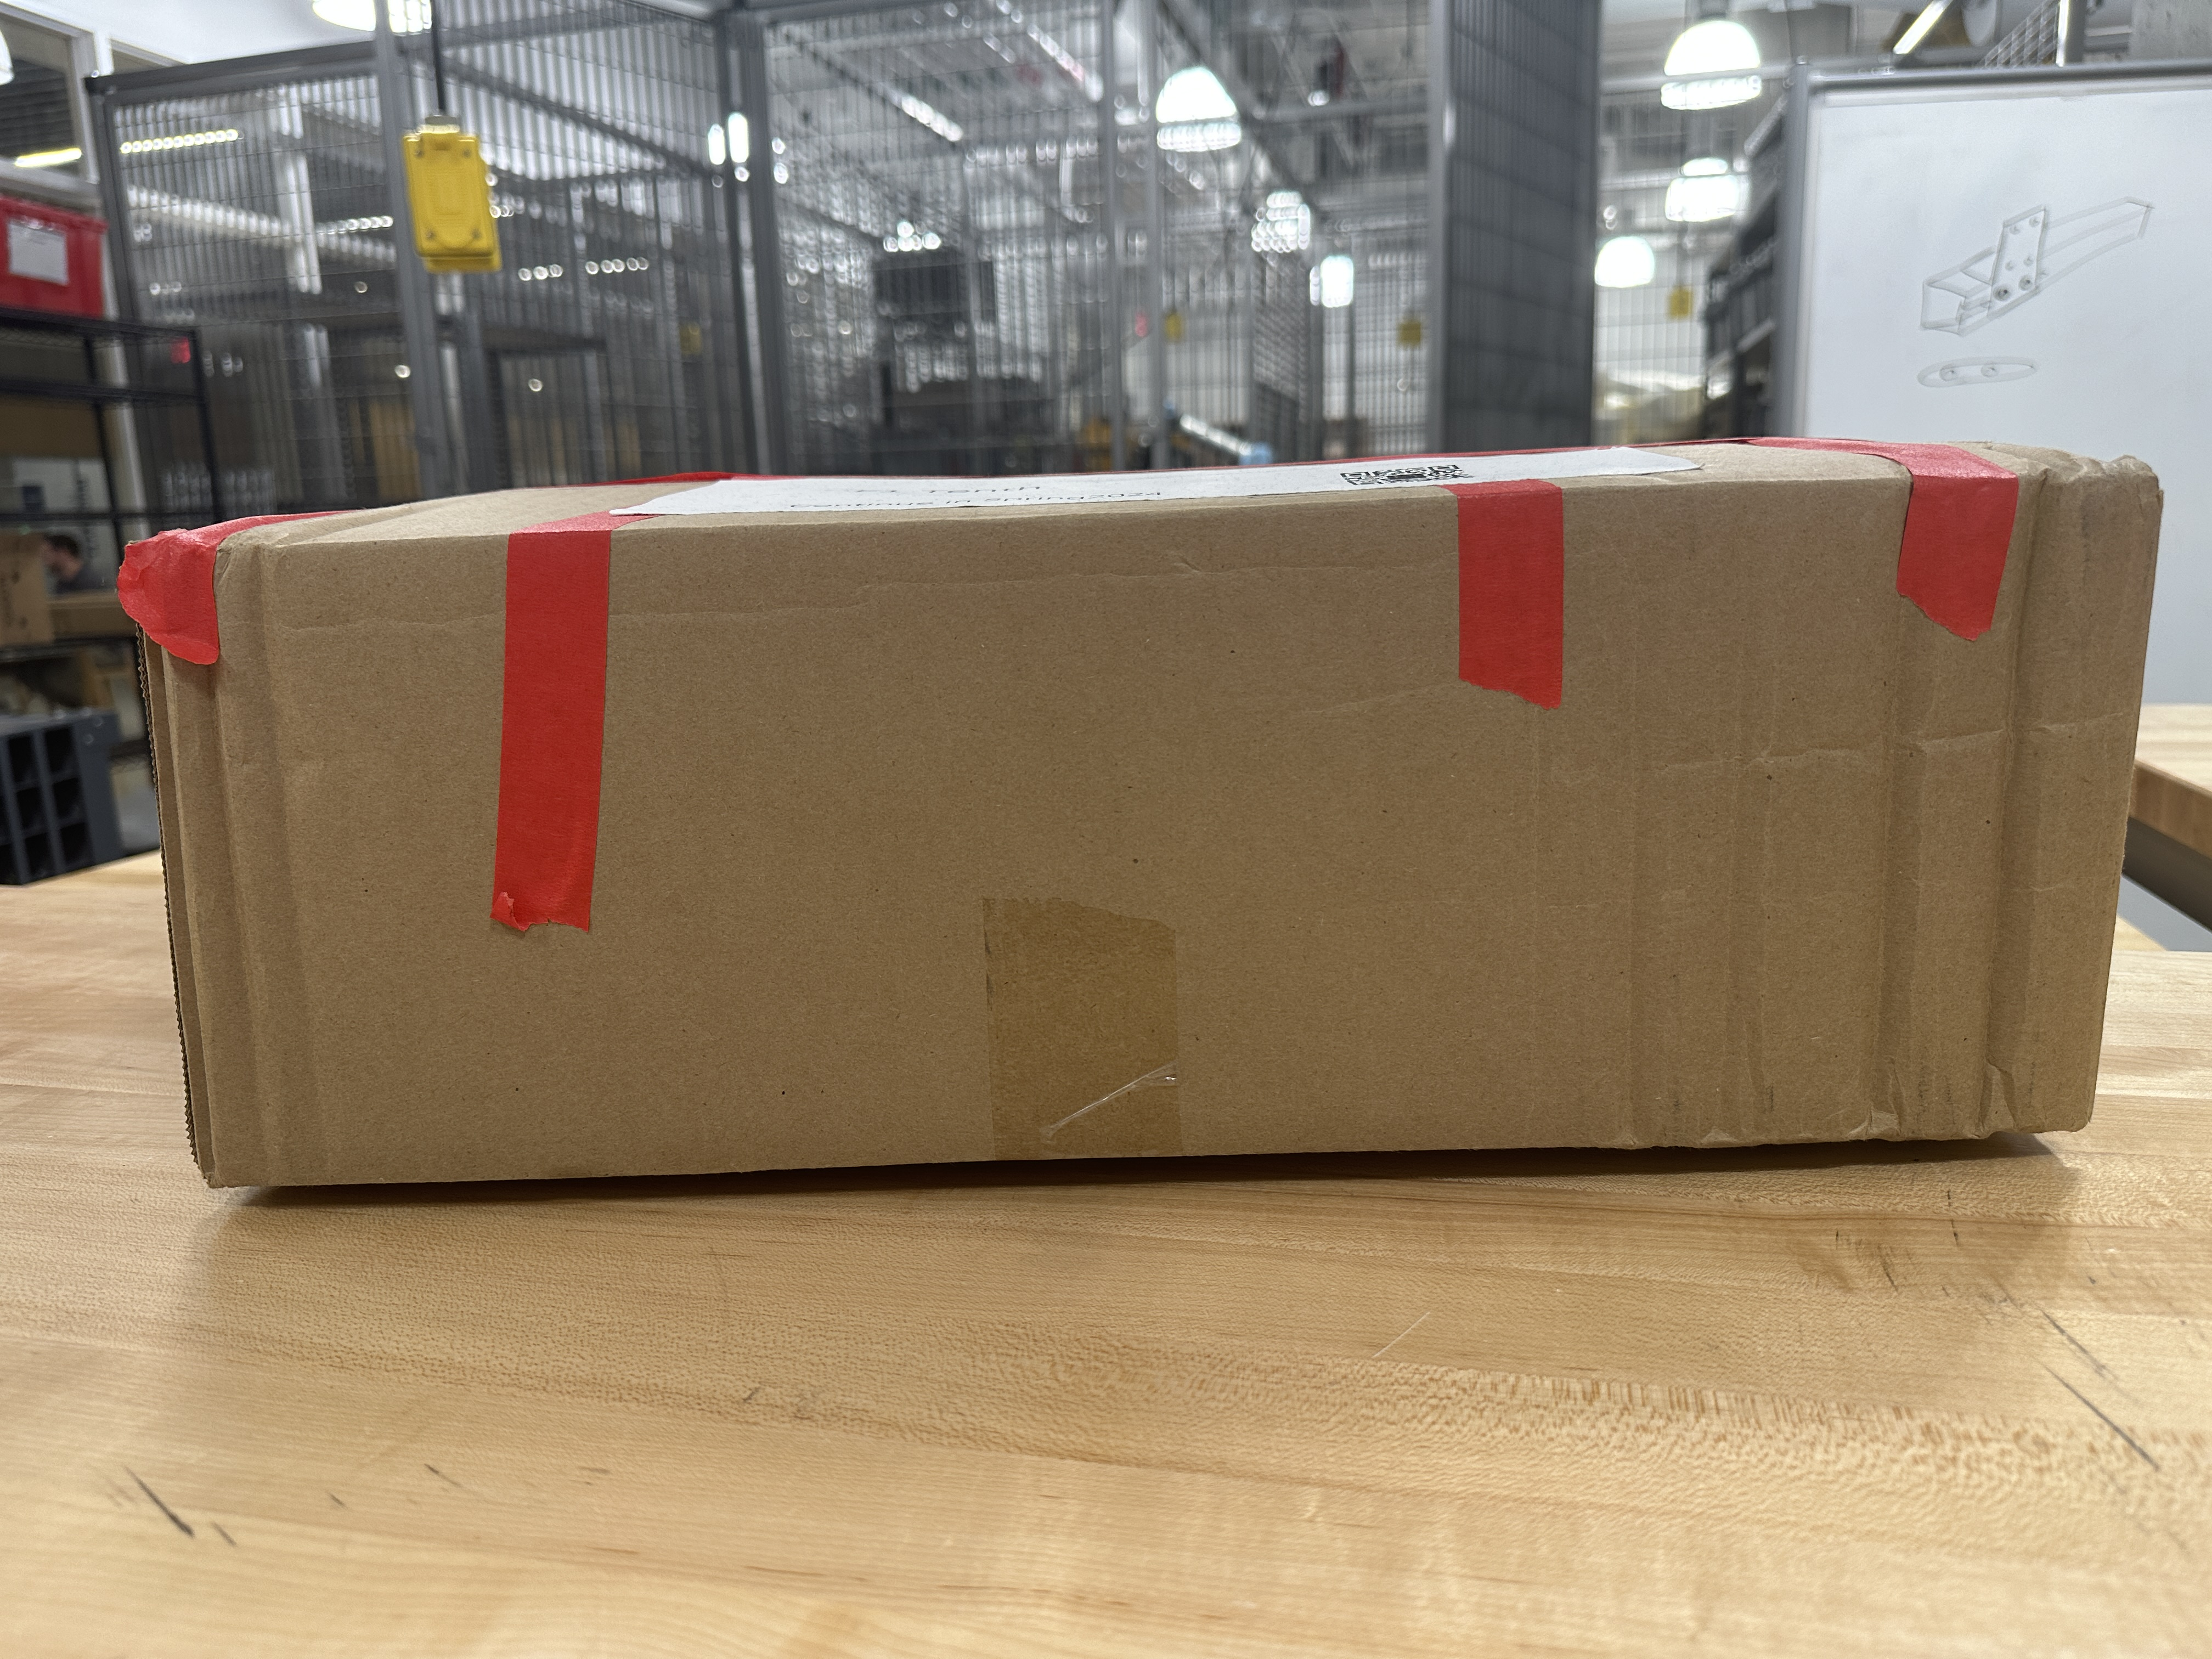Box_Obstacle: (95, 397, 2168, 1197)
